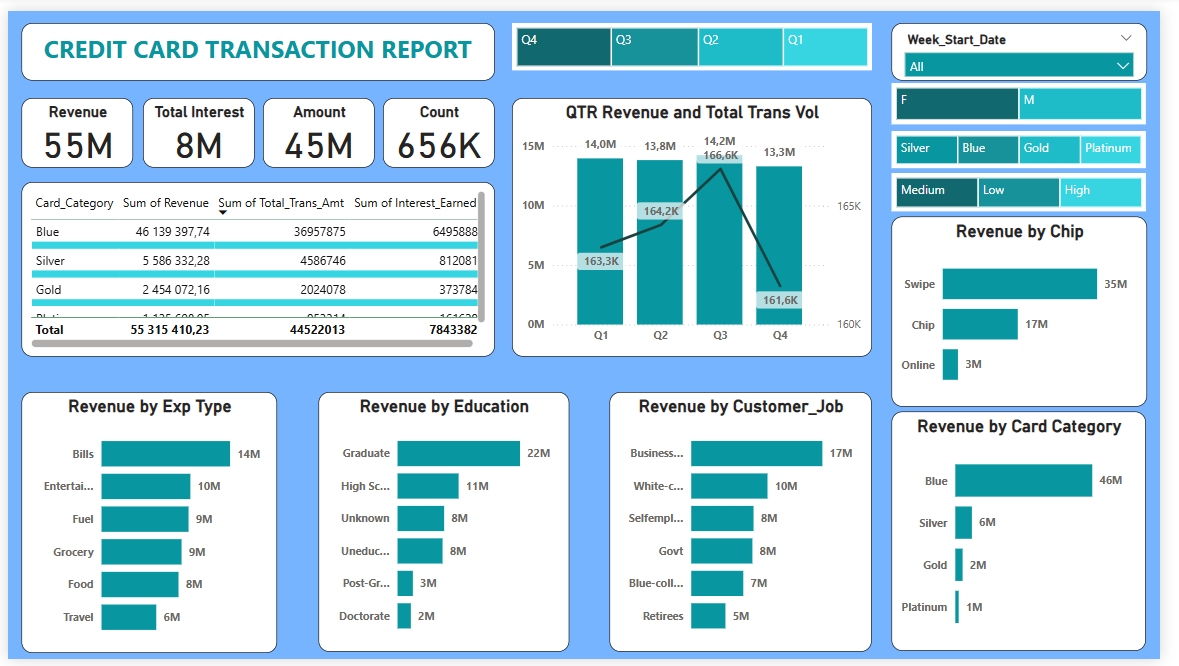

This screenshot's page, from the dashboard's own definition file:
{"tool":"powerbi","page":{"name":"CC Transct","canvas":[1280,720],"ordinal":0},"visuals":[{"type":"lineStackedColumnComboChart","title":"QTR Revenue and Total Trans Vol","fields":{"Category":["credit_card.Qtr"],"Y":["Sum(credit_card.Revenue)"],"Y2":["Sum(credit_card.Total_Trans_Vol)"]},"box":[560,97.1,400,287.1],"z":0},{"type":"textbox","box":[15.7,12.9,525.7,64.3],"z":1000},{"type":"barChart","title":"Revenue by Exp Type","fields":{"Y":["Sum(credit_card.Revenue)"],"Category":["credit_card.Exp Type"]},"box":[15.7,422.9,284.3,290],"z":2000},{"type":"barChart","title":"Revenue by Card Category","fields":{"Y":["Sum(credit_card.Revenue)"],"Category":["credit_card.Card_Category"]},"box":[981.4,445.7,282.9,265.7],"z":3000},{"type":"barChart","title":"Revenue by Customer_Job","fields":{"Y":["Sum(credit_card.Revenue)"],"Category":["customer.Customer_Job"]},"box":[668.6,422.9,291.4,288.6],"z":4000},{"type":"barChart","title":"Revenue by Education","fields":{"Y":["Sum(credit_card.Revenue)"],"Category":["customer.Education_Level"]},"box":[345,422.9,278.6,288.6],"z":5000},{"type":"barChart","title":"Revenue by Chip","fields":{"Y":["Sum(credit_card.Revenue)"],"Category":["credit_card.Use Chip"]},"box":[981.4,228.6,284.3,211.4],"z":6000},{"type":"tableEx","fields":{"Values":["credit_card.Card_Category","Sum(credit_card.Revenue)","Sum(credit_card.Total_Trans_Amt)","Sum(credit_card.Interest_Earned)"]},"box":[15.7,190,525.7,194.3],"z":7000},{"type":"card","title":"Revenue","fields":{"Values":["Sum(credit_card.Revenue)"]},"box":[15.7,97.1,124.3,77.1],"z":8000},{"type":"card","title":"Amount","fields":{"Values":["Sum(credit_card.Total_Trans_Amt)"]},"box":[283.3,97.1,124.3,77.1],"z":9000},{"type":"card","title":"Total Interest","fields":{"Values":["Sum(credit_card.Interest_Earned)"]},"box":[149.5,97.1,124.3,77.1],"z":10000},{"type":"card","title":"Count","fields":{"Values":["Sum(credit_card.Total_Trans_Vol)"]},"box":[417.1,97.1,124.3,77.1],"z":11000},{"type":"slicer","fields":{"Values":["credit_card.Week_Start_Date"]},"box":[981.4,12.9,284.3,64.3],"z":12000},{"type":"treemap","fields":{"Group":["credit_card.Qtr"],"Values":["Avg(credit_card.Client_Num)"]},"box":[560,12.9,400,52.9],"z":13000},{"type":"treemap","fields":{"Values":["Avg(credit_card.Client_Num)"],"Group":["credit_card.Card_Category"]},"box":[981.4,132.9,282.9,41.4],"z":14000},{"type":"treemap","fields":{"Values":["Avg(credit_card.Client_Num)"],"Group":["customer.Income Group"]},"box":[981.4,180,282.9,42.9],"z":15000},{"type":"treemap","fields":{"Group":["customer.Gender"],"Values":["Avg(credit_card.Client_Num)"]},"box":[981.4,80,282.9,45.7],"z":16000}]}

Visuals, with their boxes in screenshot pixels (x1, y1, x2, y2), scaled from the page's 1280x720 canvas onto the 1179x666 screenshot:
"QTR Revenue and Total Trans Vol" lineStackedColumnComboChart: crop(516, 90, 884, 355)
textbox: crop(14, 12, 499, 71)
"Revenue by Exp Type" barChart: crop(14, 391, 276, 659)
"Revenue by Card Category" barChart: crop(904, 412, 1165, 658)
"Revenue by Customer_Job" barChart: crop(616, 391, 884, 658)
"Revenue by Education" barChart: crop(318, 391, 574, 658)
"Revenue by Chip" barChart: crop(904, 211, 1166, 407)
tableEx - credit_card.Card_Category x Sum(credit_card.Revenue): crop(14, 176, 499, 355)
"Revenue" card: crop(14, 90, 129, 161)
"Amount" card: crop(261, 90, 375, 161)
"Total Interest" card: crop(138, 90, 252, 161)
"Count" card: crop(384, 90, 499, 161)
slicer - credit_card.Week_Start_Date: crop(904, 12, 1166, 71)
treemap - credit_card.Qtr x Avg(credit_card.Client_Num): crop(516, 12, 884, 61)
treemap - Avg(credit_card.Client_Num) x credit_card.Card_Category: crop(904, 123, 1165, 161)
treemap - Avg(credit_card.Client_Num) x customer.Income Group: crop(904, 166, 1165, 206)
treemap - customer.Gender x Avg(credit_card.Client_Num): crop(904, 74, 1165, 116)
